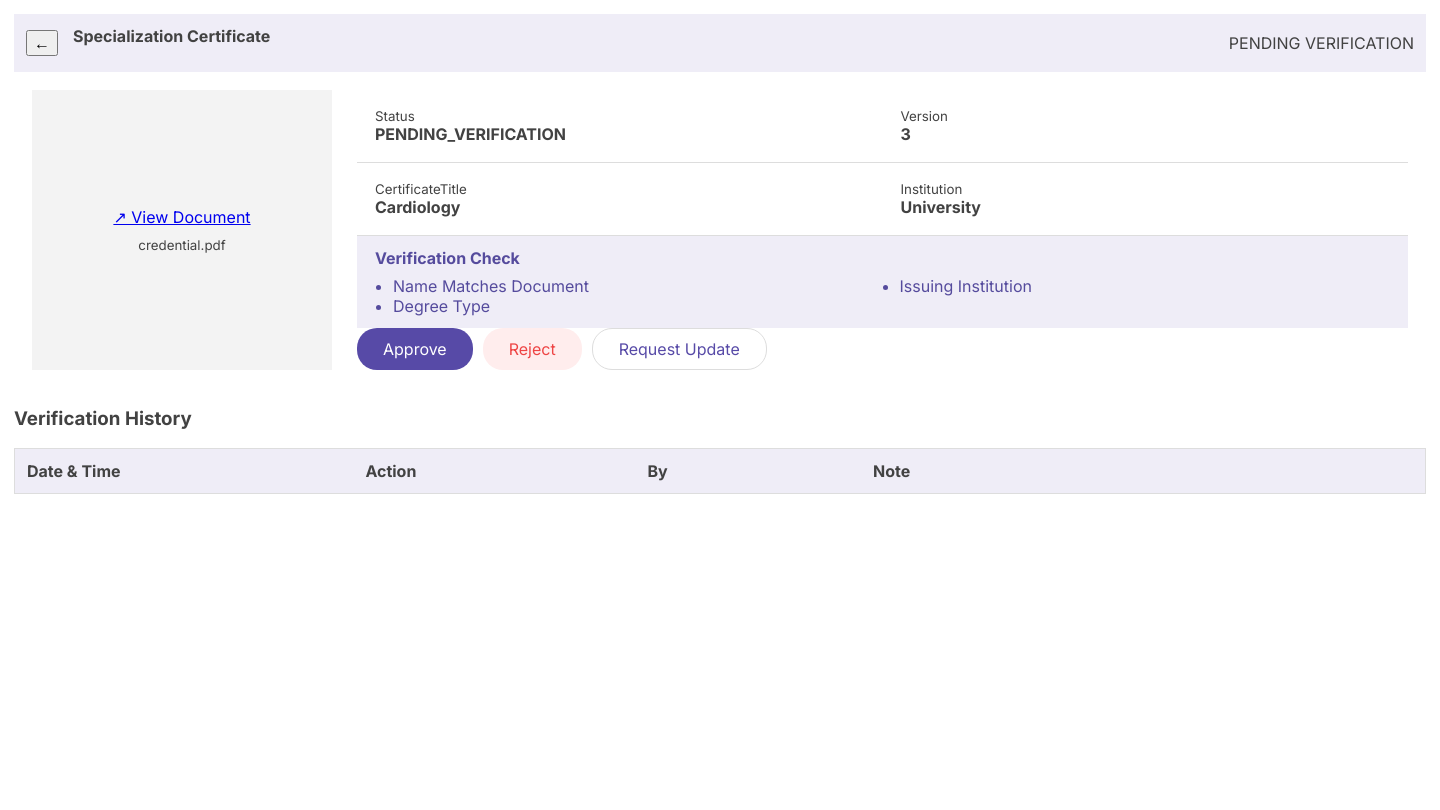
Test case: stale review errors remain visible without claiming approval
The image size is (1440, 810).
Click the button "Approve" at (415, 349), box [357,328,473,370]
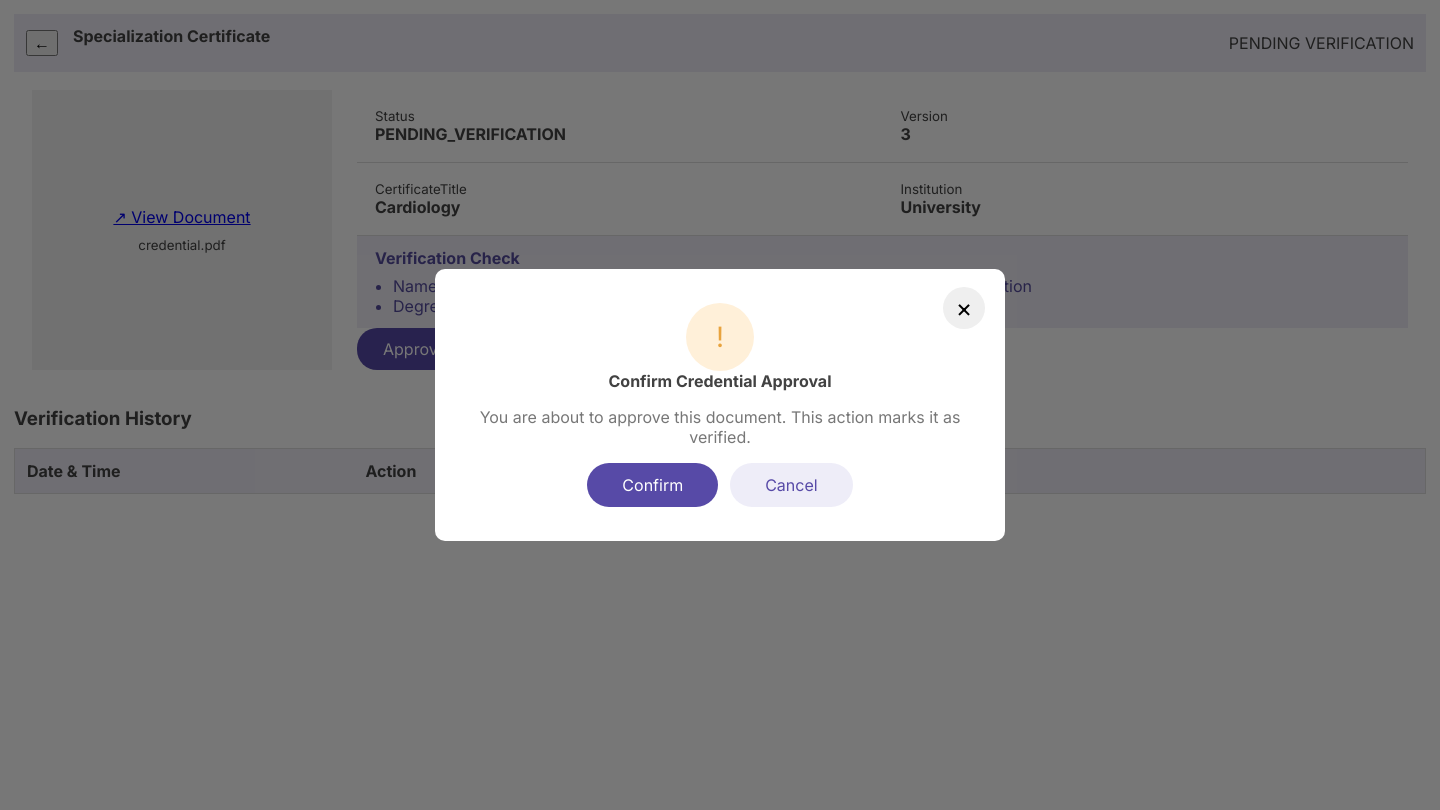
Click the button "Confirm" at (653, 485), box [587,463,718,507]
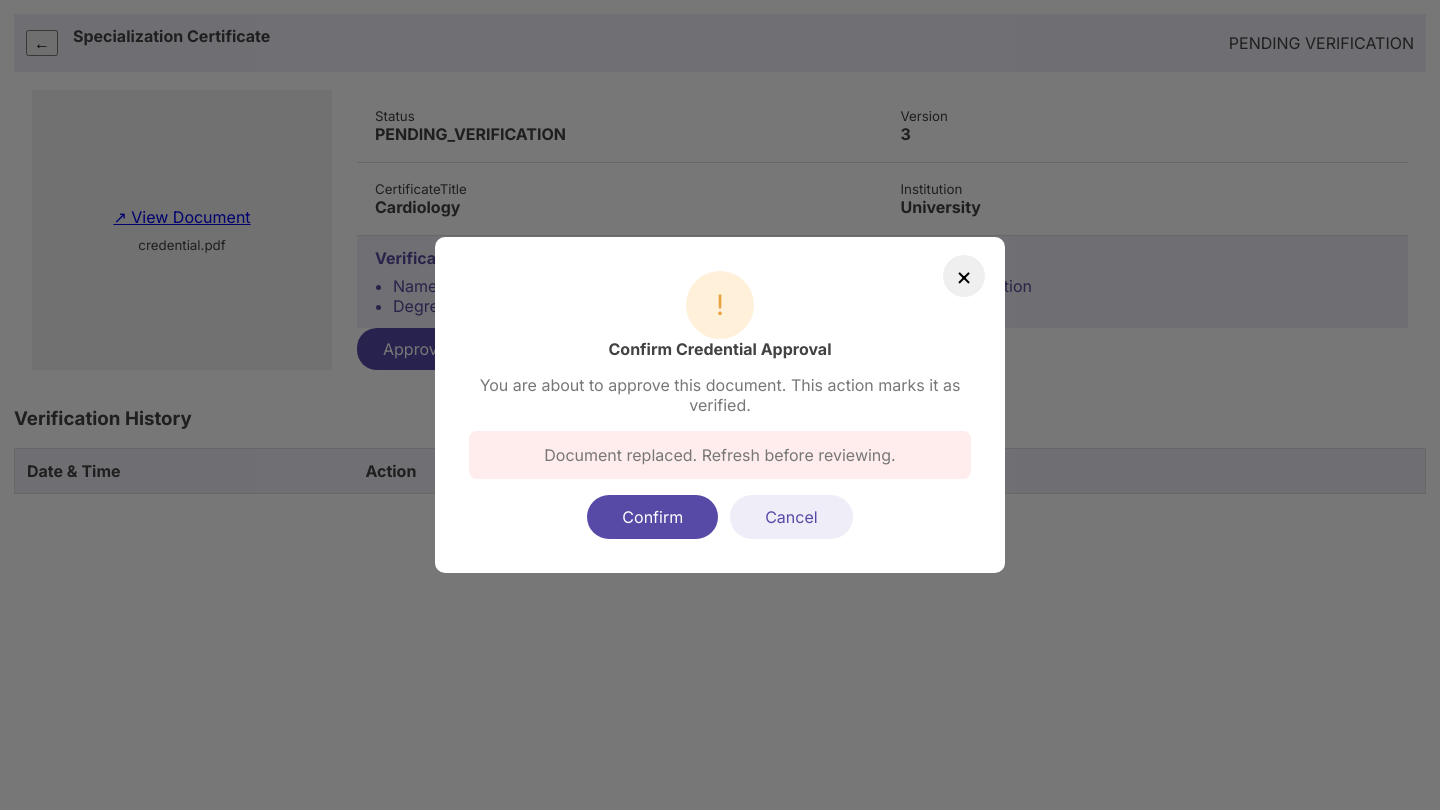
Expected: the text "Document replaced. Refresh before reviewing." is shown, [469,431,971,479]
